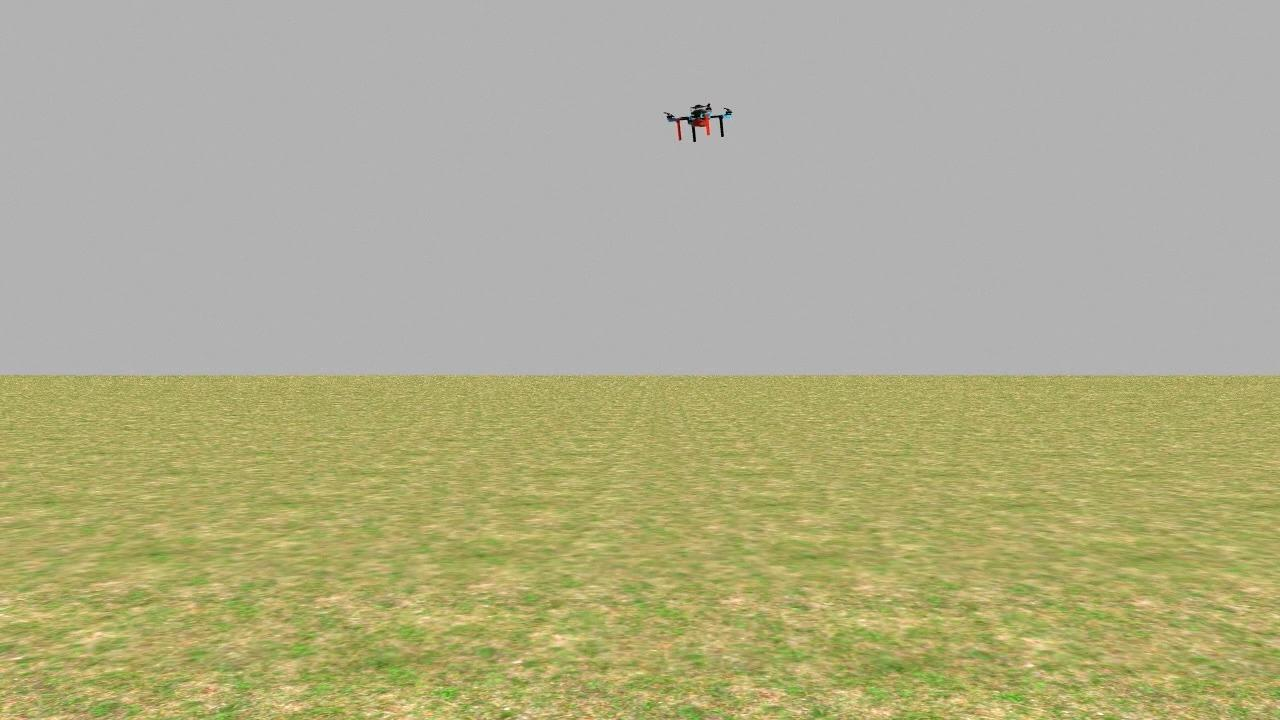UAV: (655, 87, 761, 156)
